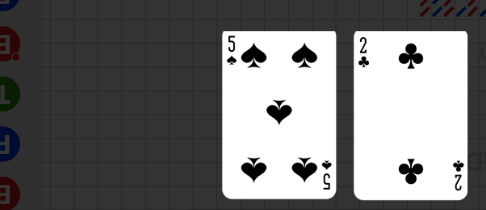2C: (357, 36, 371, 70)
5S: (226, 34, 238, 67)
